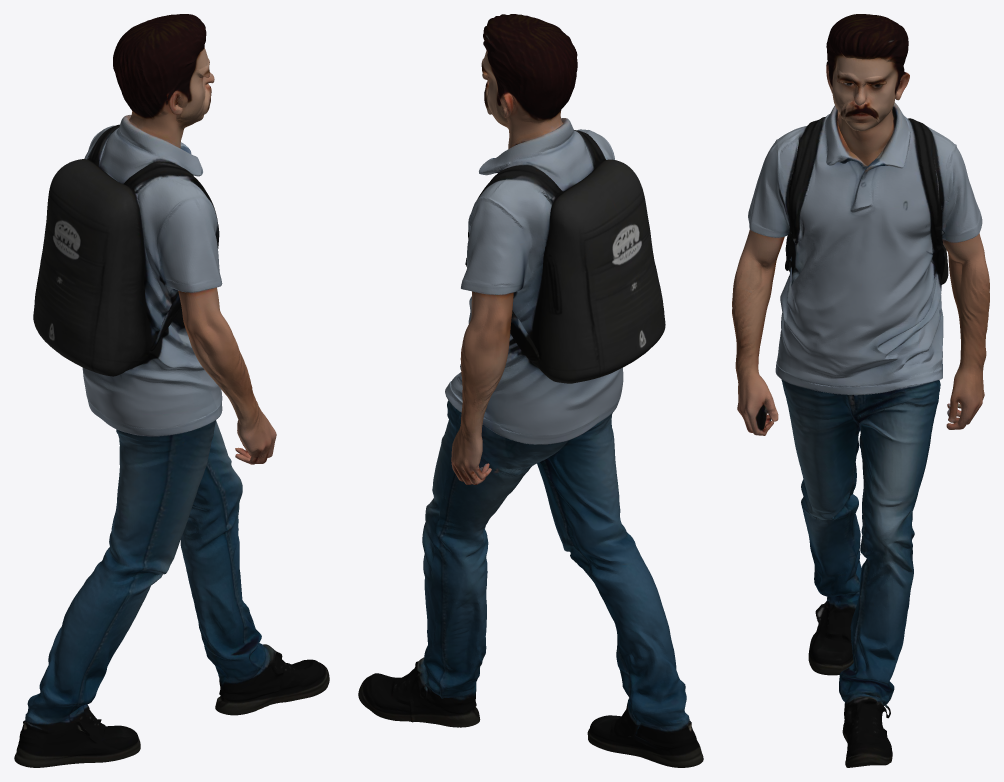
File: cesarM.glb
3 renders of one model, left to right at view 1: azimuth 30°, elevation 25°; view 2: azimuth 150°, elevation 25°; view 3: azimuth 270°, elevation 25°, orthographic. The views are drawn at different scales.
Parts seen in each view (by area): view 1: tripo_node_fe206de9-f9d3-42de-adb0-8521c79adc7c; view 2: tripo_node_fe206de9-f9d3-42de-adb0-8521c79adc7c; view 3: tripo_node_fe206de9-f9d3-42de-adb0-8521c79adc7c.
Boxes of the visible parts, x1,y1,x2,y2 form: tripo_node_fe206de9-f9d3-42de-adb0-8521c79adc7c: (14,14,329,767); tripo_node_fe206de9-f9d3-42de-adb0-8521c79adc7c: (358,14,703,767); tripo_node_fe206de9-f9d3-42de-adb0-8521c79adc7c: (732,14,989,767).
Size of the model in its own units: 0.4769 by 1 by 0.3426.
Materials: 1 (1 with a texture image).
